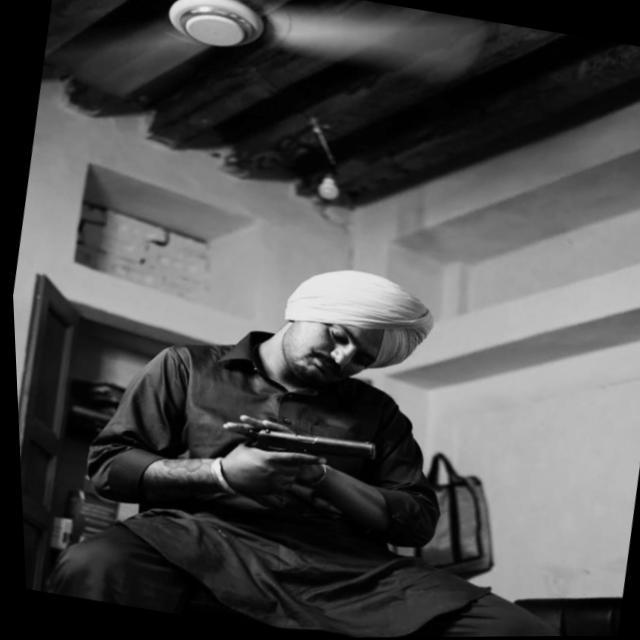weapon: (229, 419, 384, 517)
